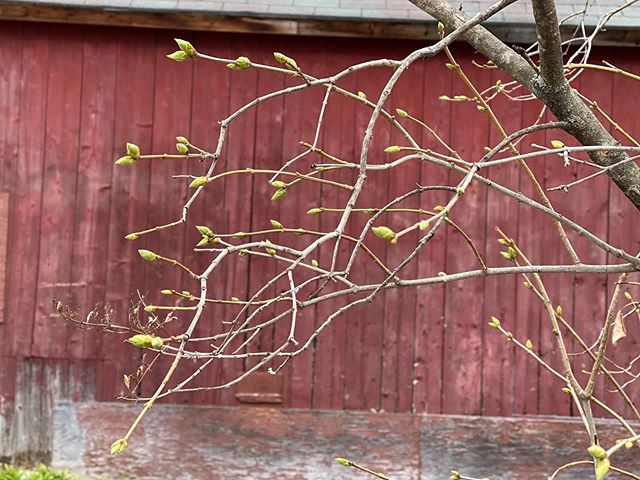building: (1, 1, 626, 421)
tree: (170, 1, 640, 414)
